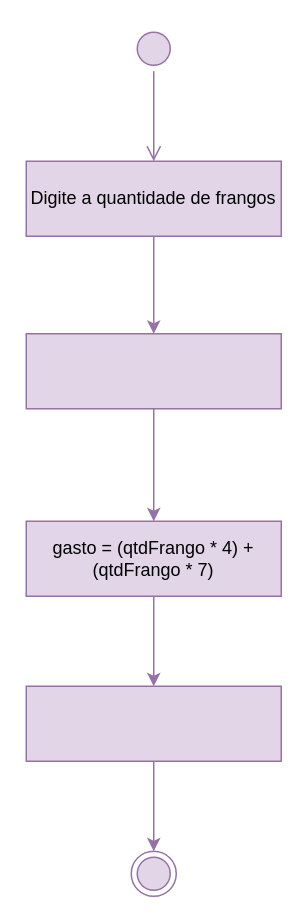
This 308x923 diagram has some shape labels left out. Here are the shapes that lost their labels. From the top down, the centre of each, then its label:
At point 153,370: "ler qtdFrango".
At point 153,723: "Exibir gasto".
